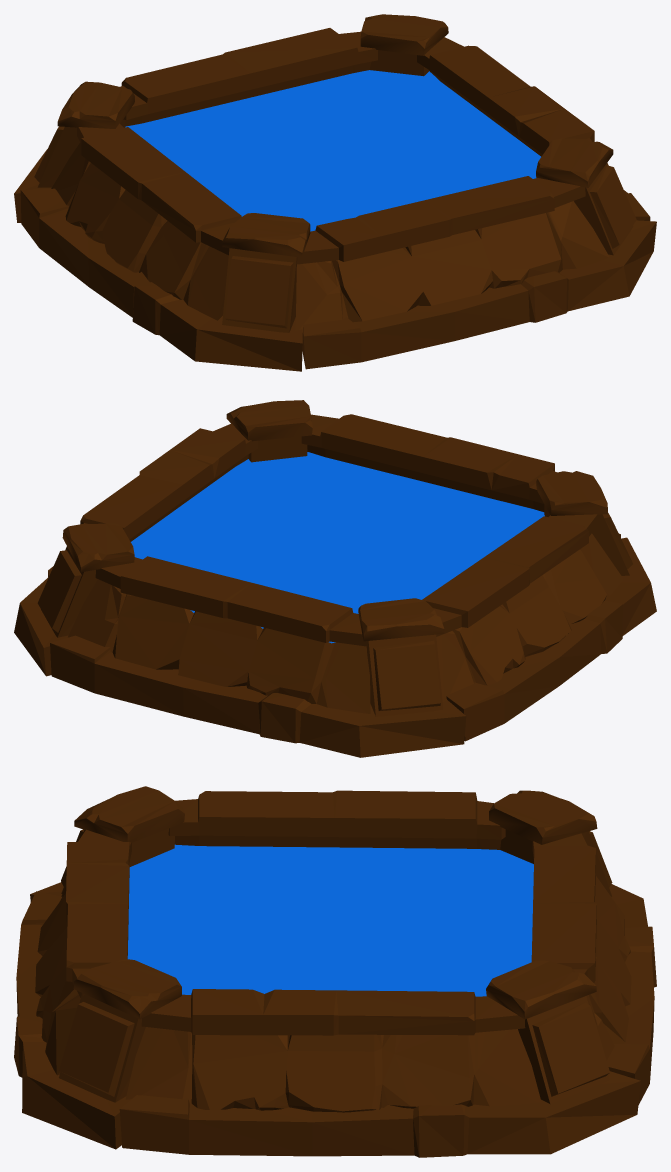
Rendered from pond.FBX.
3 views of the same model, one above another, from view 1: azimuth 30°, elevation 25°; view 2: azimuth 150°, elevation 25°; view 3: azimuth 270°, elevation 25° (orthographic). The views are drawn at different scales.
Parts seen in each view (by area): view 1: bg_atm_border_fountain02_sm_bjh; view 2: bg_atm_border_fountain02_sm_bjh; view 3: bg_atm_border_fountain02_sm_bjh.
Boxes of the visible parts, box(x1,y1,x2,y2) form: bg_atm_border_fountain02_sm_bjh: box(14, 14, 656, 371); bg_atm_border_fountain02_sm_bjh: box(14, 400, 656, 757); bg_atm_border_fountain02_sm_bjh: box(14, 786, 656, 1157).
Bounding box in the file's own units: 976 × 216 × 976.
